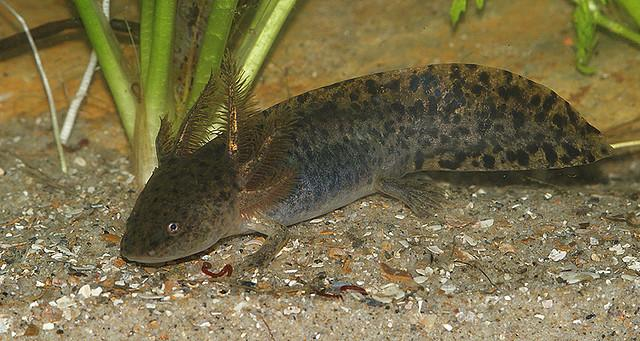Sirip Ekor: (470, 54, 630, 190)
